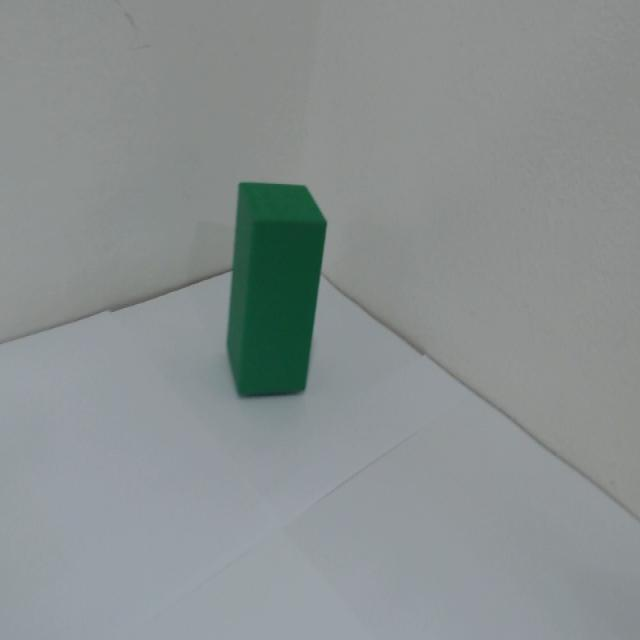cube: (191, 73, 345, 480)
